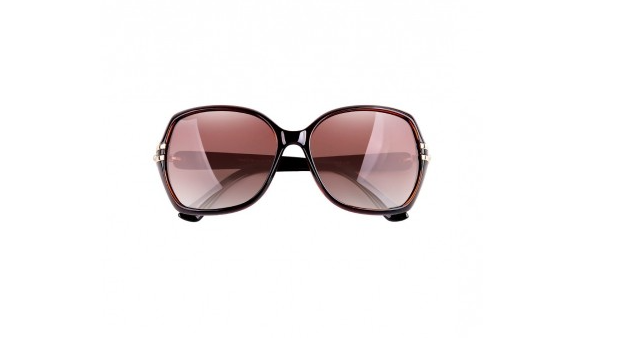glass: (144, 87, 452, 236)
